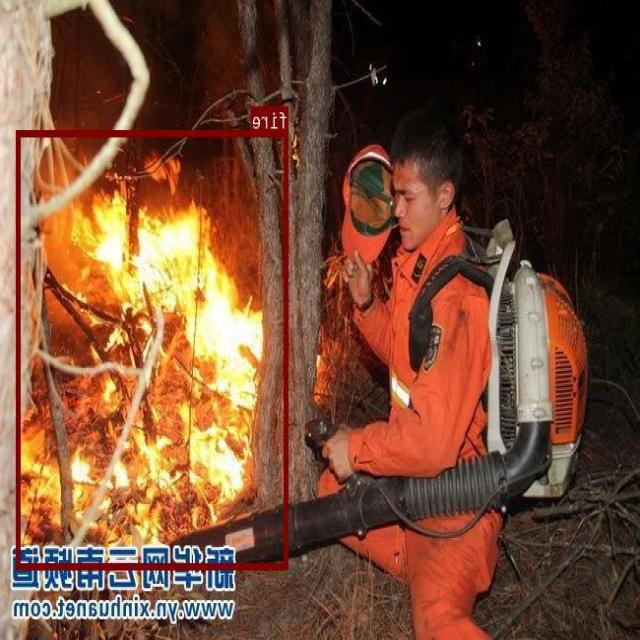fire: (17, 129, 289, 569)
